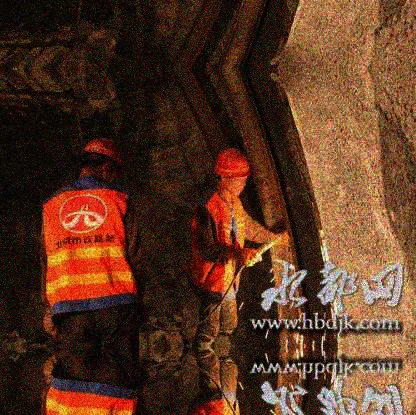helmet: (77, 138, 122, 185), (216, 147, 249, 194)
